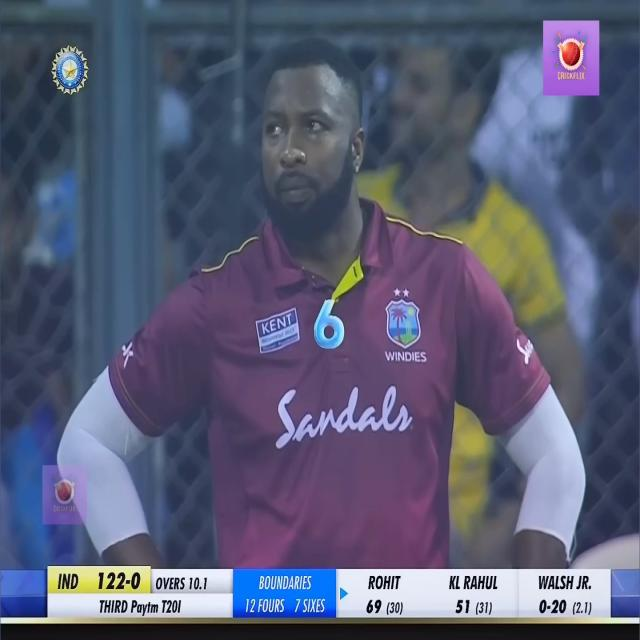fully_visible: (131, 593, 160, 622)
